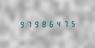eight: (38, 20, 44, 28)
five: (66, 19, 72, 27)
four: (52, 19, 58, 27)
nine: (17, 20, 23, 28), (31, 20, 37, 28)
seven: (24, 20, 30, 28), (59, 19, 65, 27)
six: (45, 20, 51, 27)
